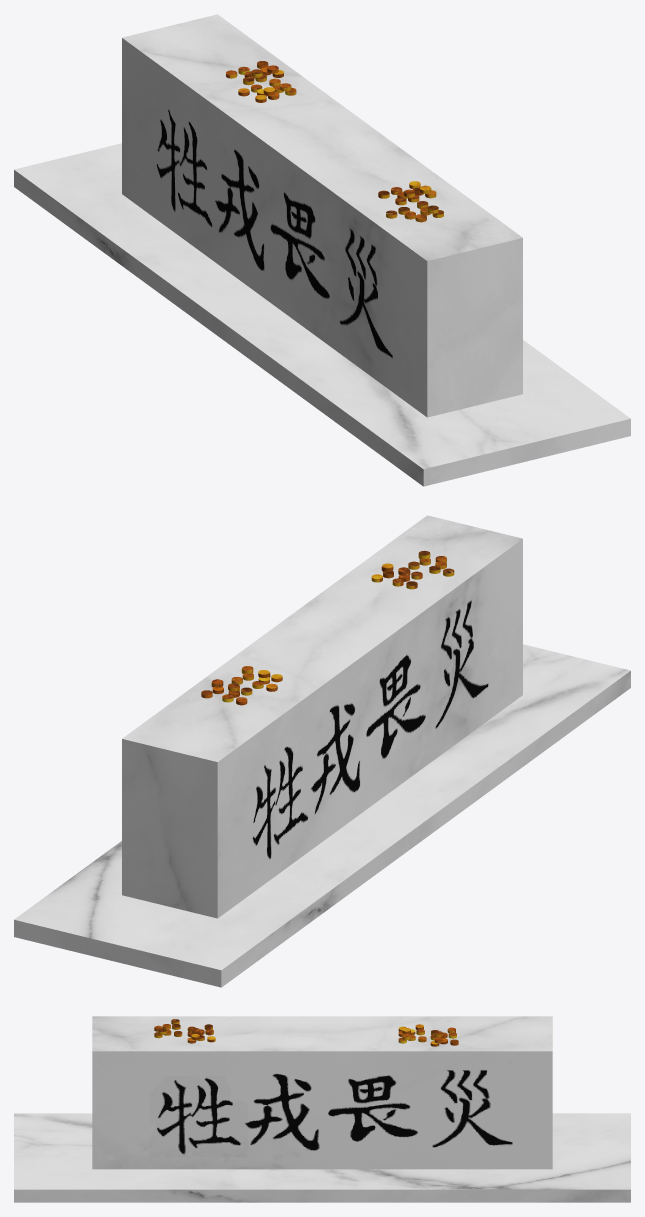
Rendered from offeringshrine (1).fbx.
3 views of the same model, one above another, from view 1: azimuth 30°, elevation 25°; view 2: azimuth 150°, elevation 25°; view 3: azimuth 270°, elevation 25° (orthographic). The views are drawn at different scales.
Visible parts, largest first — view 1: pCylinder39; view 2: pCylinder39; view 3: pCylinder39.
Part boxes in pixels (x1,y1,x2,y2): pCylinder39: (14,14,630,486); pCylinder39: (14,515,630,987); pCylinder39: (14,1016,630,1202).
Size of the model in its own units: 10.1 by 8.39 by 34.53.
1 material, 1 textured.
